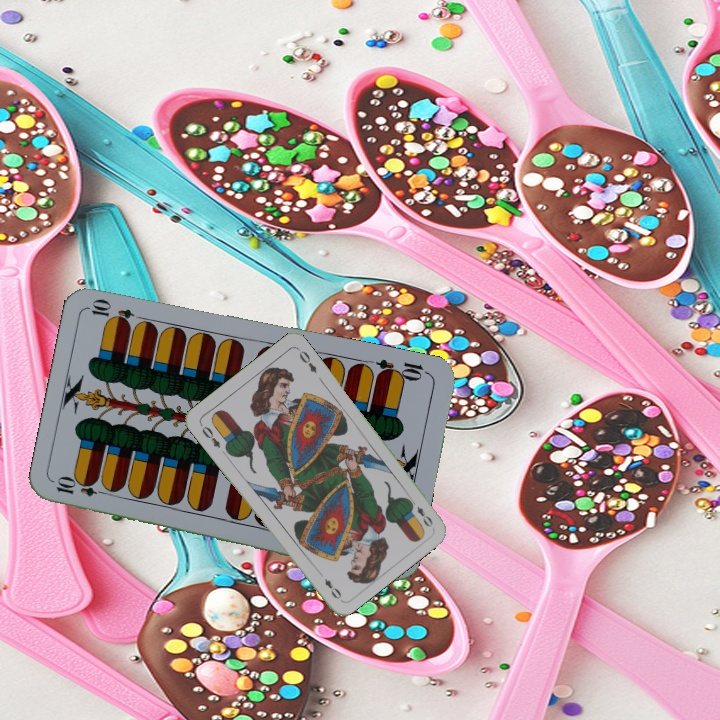E10: (373, 355, 432, 384), (52, 476, 111, 500)
EO: (406, 495, 436, 530), (196, 420, 223, 451)
